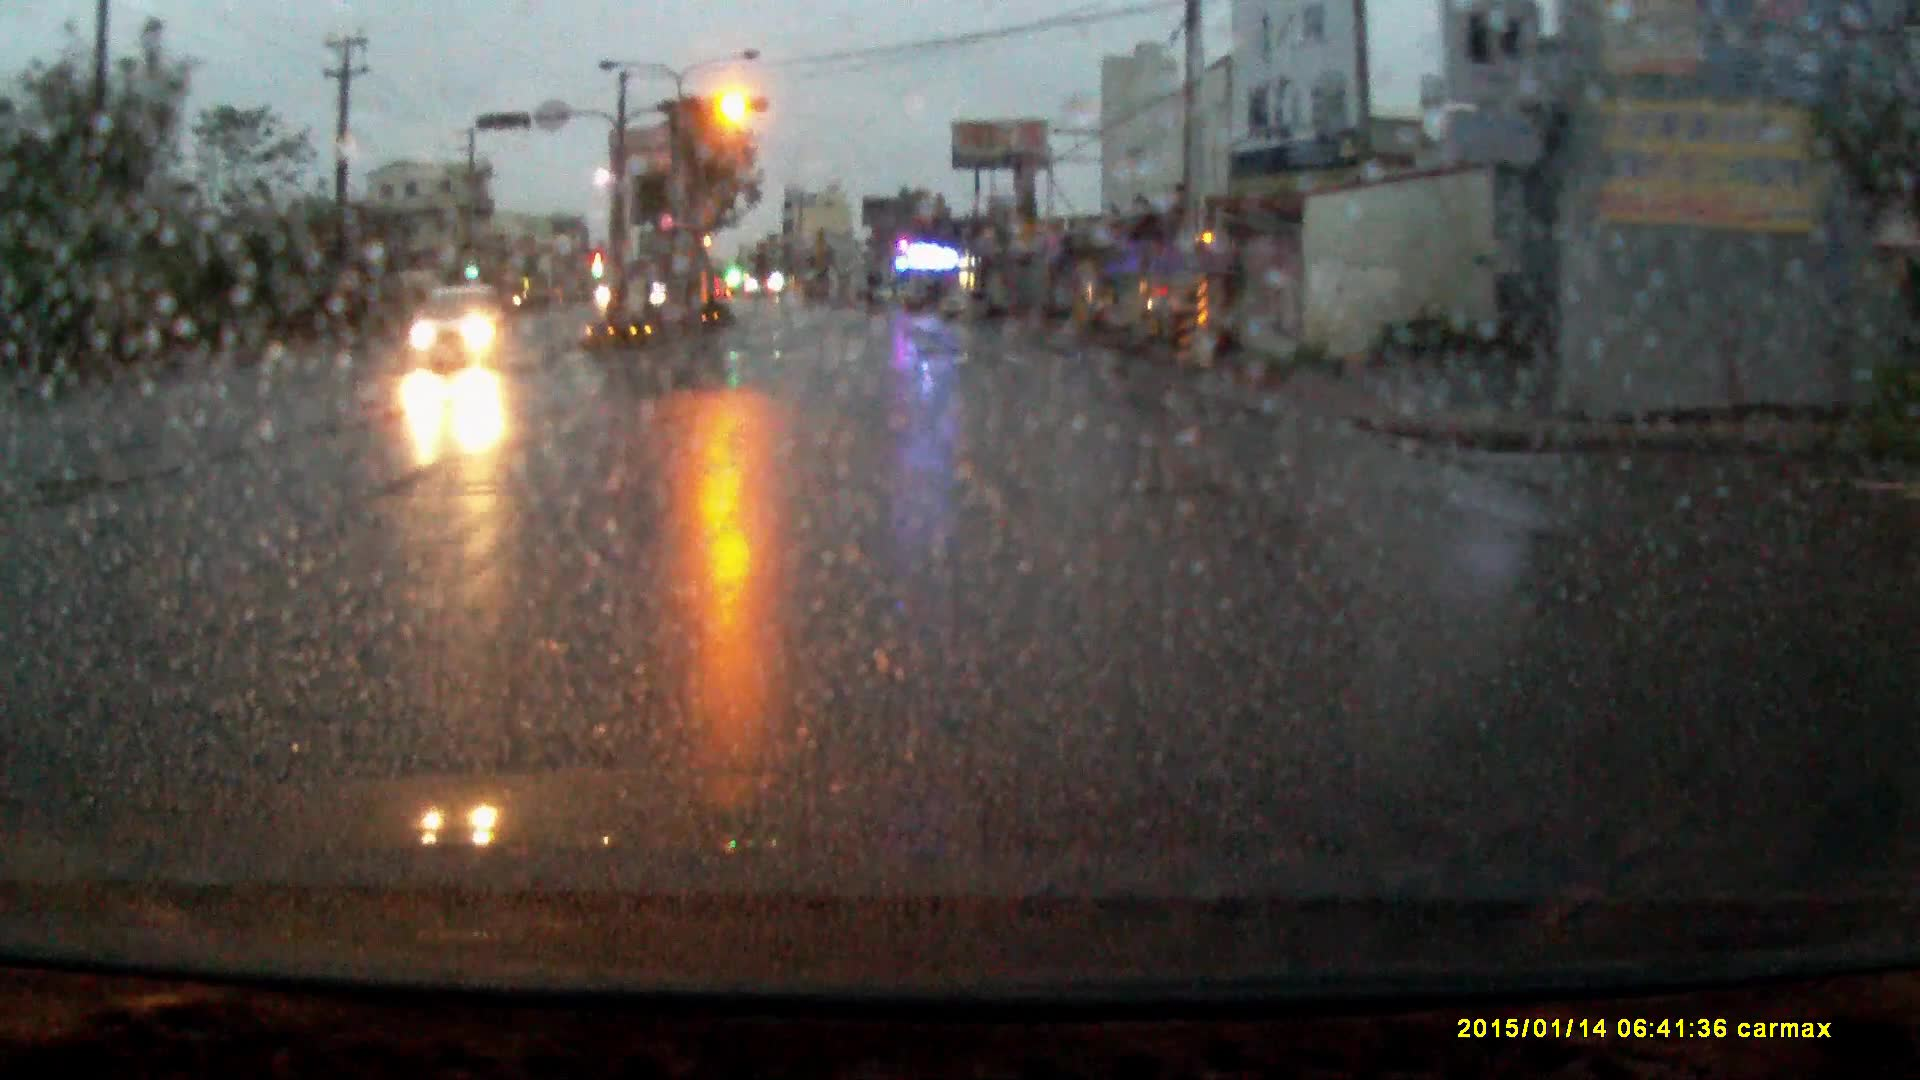vehicle: (411, 286, 512, 369)
